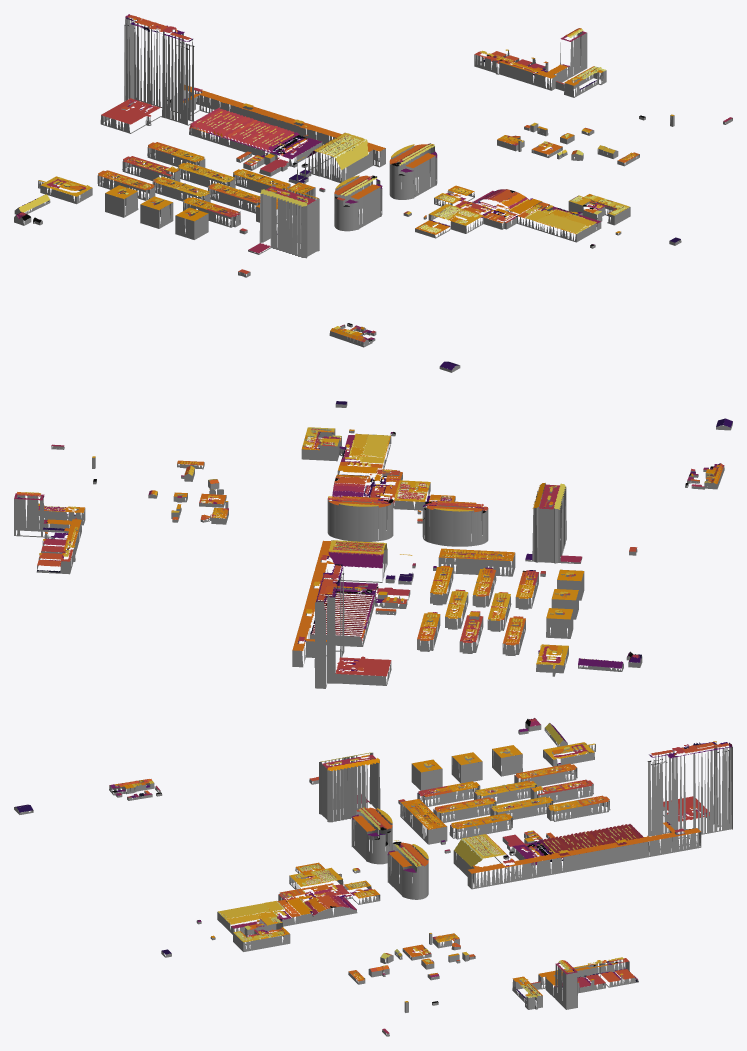
The model's file is campus_85000_445000.glb.
The picture shows the model from 3 angles, top to bottom: view 1: azimuth 30°, elevation 25°; view 2: azimuth 150°, elevation 25°; view 3: azimuth 270°, elevation 25°; orthographic projection. The views are drawn at different scales.
Size of the model in its own units: 714 by 92.27 by 696.
